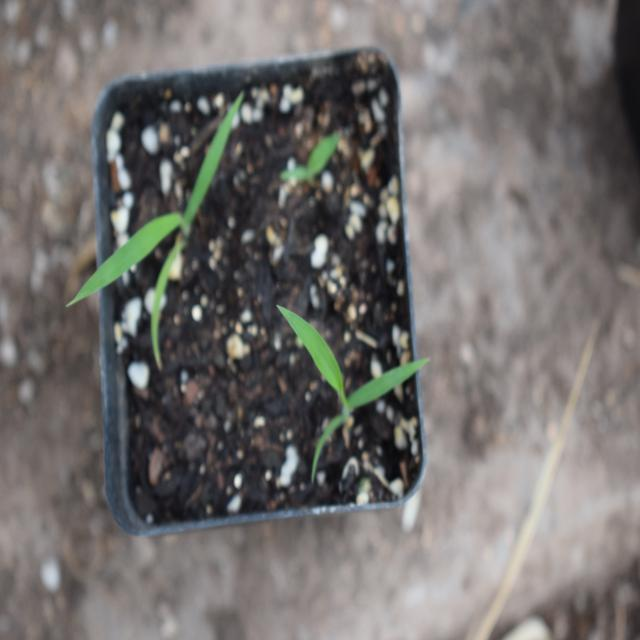crabgrass: (83, 86, 270, 350), (272, 295, 418, 474)
